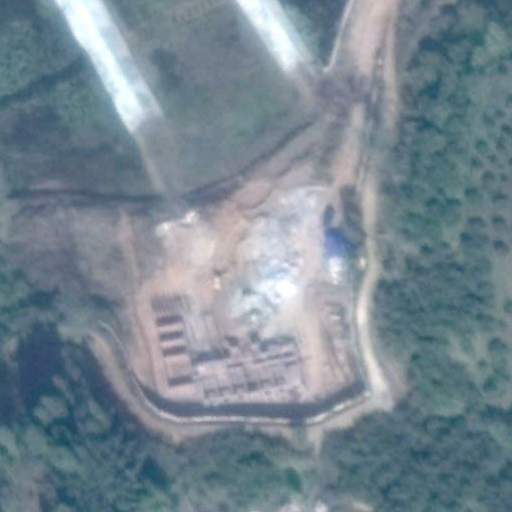msw: (228, 189, 329, 323)
